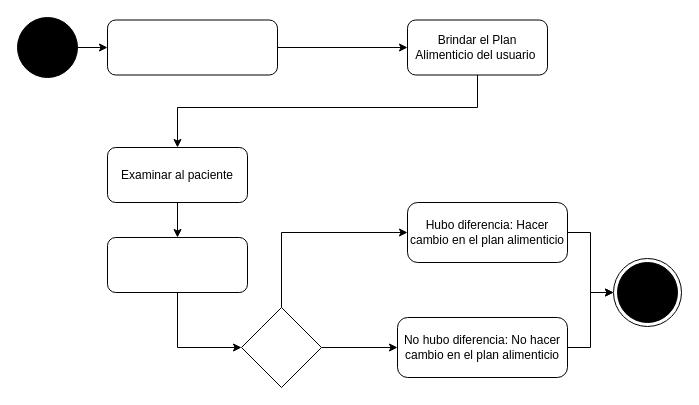
The diagram is 699 pixels wide and 405 high, and some of its shapes have lost their labels. The centre of each missing label's shape, as x and y in pixels:
Comparar resultados: (x=177, y=264)
Solicitar Ver Plan Alimenticio de un usuario determinado: (x=192, y=47)
